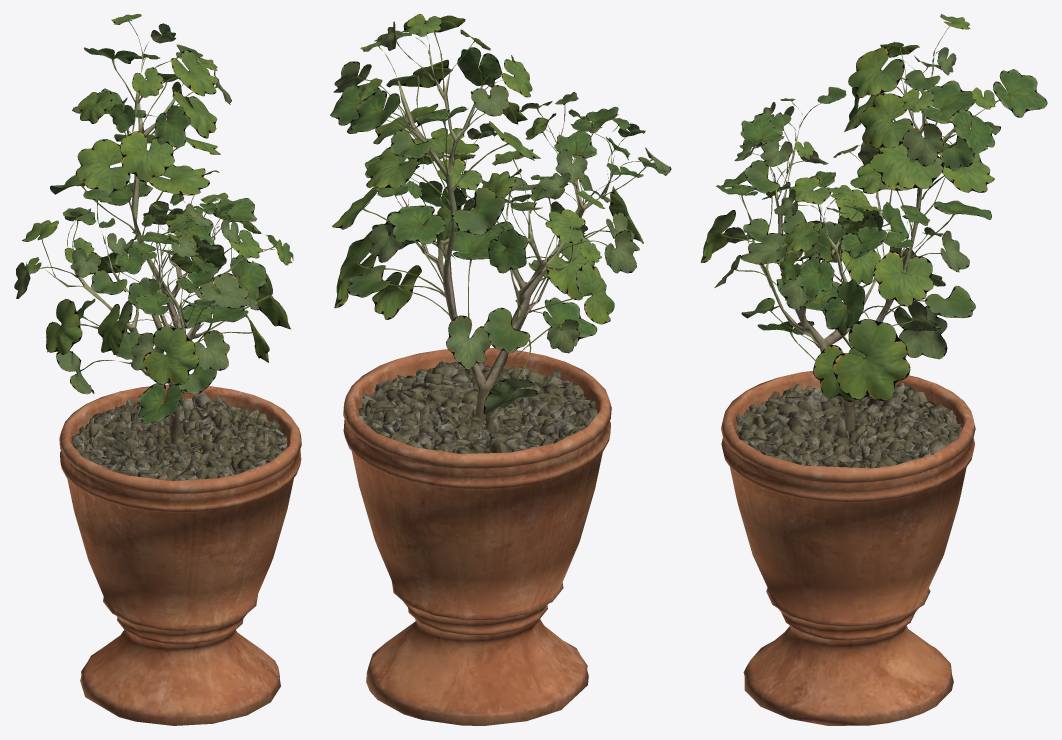
File: potted_plant_01.glb
The picture shows the model from 3 angles, left to right: view 1: azimuth 30°, elevation 25°; view 2: azimuth 150°, elevation 25°; view 3: azimuth 270°, elevation 25°; orthographic projection. The views are drawn at different scales.
Parts seen in each view (by area): view 1: potted_plant_01_stem, potted_plant_01_leaves; view 2: potted_plant_01_stem, potted_plant_01_leaves; view 3: potted_plant_01_stem, potted_plant_01_leaves.
Boxes of the visible parts, left/top/right/bottom form: potted_plant_01_stem: left=54, top=55, right=301, bottom=725; potted_plant_01_leaves: left=14, top=14, right=293, bottom=423; potted_plant_01_stem: left=343, top=48, right=612, bottom=725; potted_plant_01_leaves: left=330, top=14, right=671, bottom=414; potted_plant_01_stem: left=721, top=56, right=975, bottom=725; potted_plant_01_leaves: left=700, top=14, right=1047, bottom=401.
Size of the model in its own units: 0.5871 by 1.34 by 0.6336.
2 materials, 2 textured.
